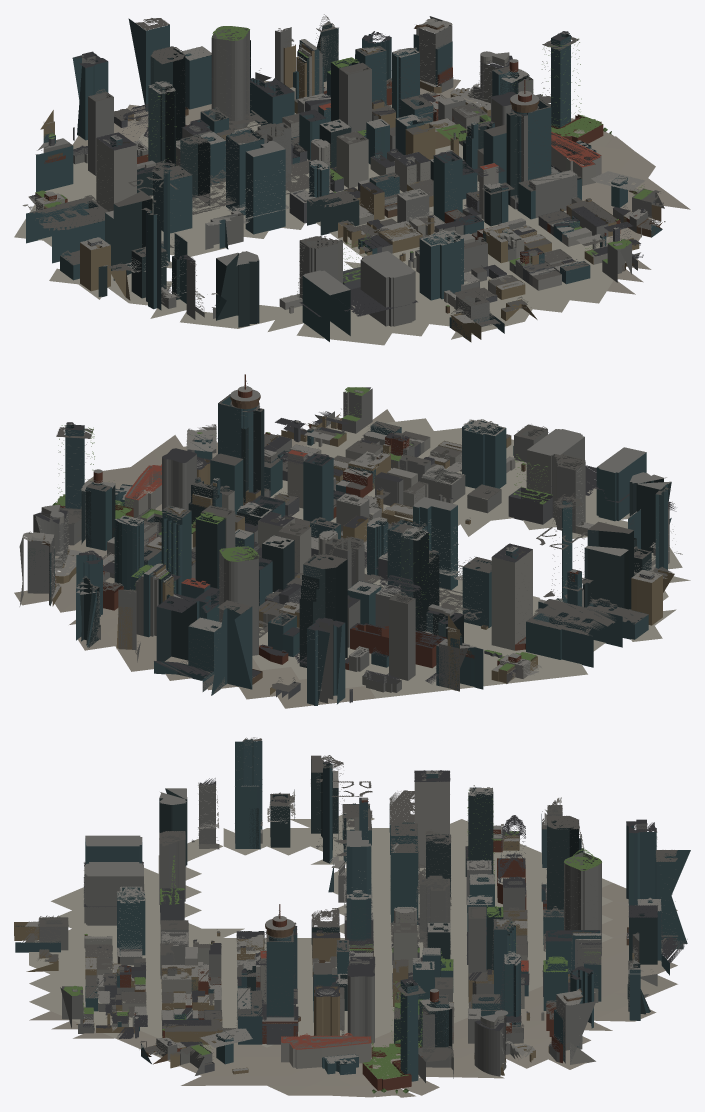
File: nah.glb
3 renders of one model, top to bottom at view 1: azimuth 30°, elevation 25°; view 2: azimuth 150°, elevation 25°; view 3: azimuth 270°, elevation 25°, orthographic. The views are drawn at different scales.
Parts seen in each view (by area): view 1: r0; view 2: r0; view 3: r0.
Boxes of the visible parts, bbox=[...] form: r0: bbox=[14, 14, 690, 345]; r0: bbox=[14, 374, 690, 708]; r0: bbox=[14, 737, 690, 1097].
Size of the model in its own units: 880 by 183 by 885.
